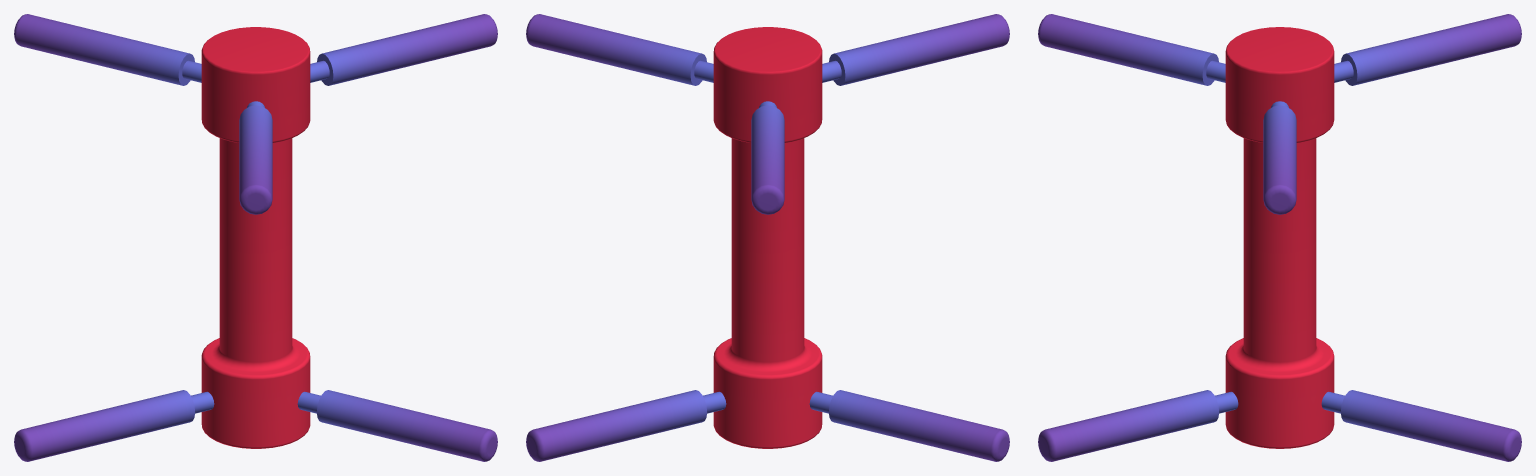
The model's file is Obs_05.fbx.
The picture shows the model from 3 angles, left to right: view 1: azimuth 30°, elevation 25°; view 2: azimuth 150°, elevation 25°; view 3: azimuth 270°, elevation 25°; orthographic projection.
Parts seen in each view (by area): view 1: Obs_05_Base, Obs_05_Column_Top, Obs_05_Column_Down; view 2: Obs_05_Base, Obs_05_Column_Top, Obs_05_Column_Down; view 3: Obs_05_Base, Obs_05_Column_Top, Obs_05_Column_Down.
Part boxes in pixels (x1,y1,x2,y2): Obs_05_Base: [201, 27, 310, 448]; Obs_05_Column_Top: [14, 14, 497, 214]; Obs_05_Column_Down: [14, 390, 497, 461]; Obs_05_Base: [713, 27, 822, 448]; Obs_05_Column_Top: [526, 14, 1009, 214]; Obs_05_Column_Down: [526, 390, 1009, 461]; Obs_05_Base: [1225, 27, 1334, 448]; Obs_05_Column_Top: [1038, 14, 1521, 214]; Obs_05_Column_Down: [1038, 390, 1521, 461].
Bounding box in the file's own units: 2.62 × 2.01 × 2.33.
